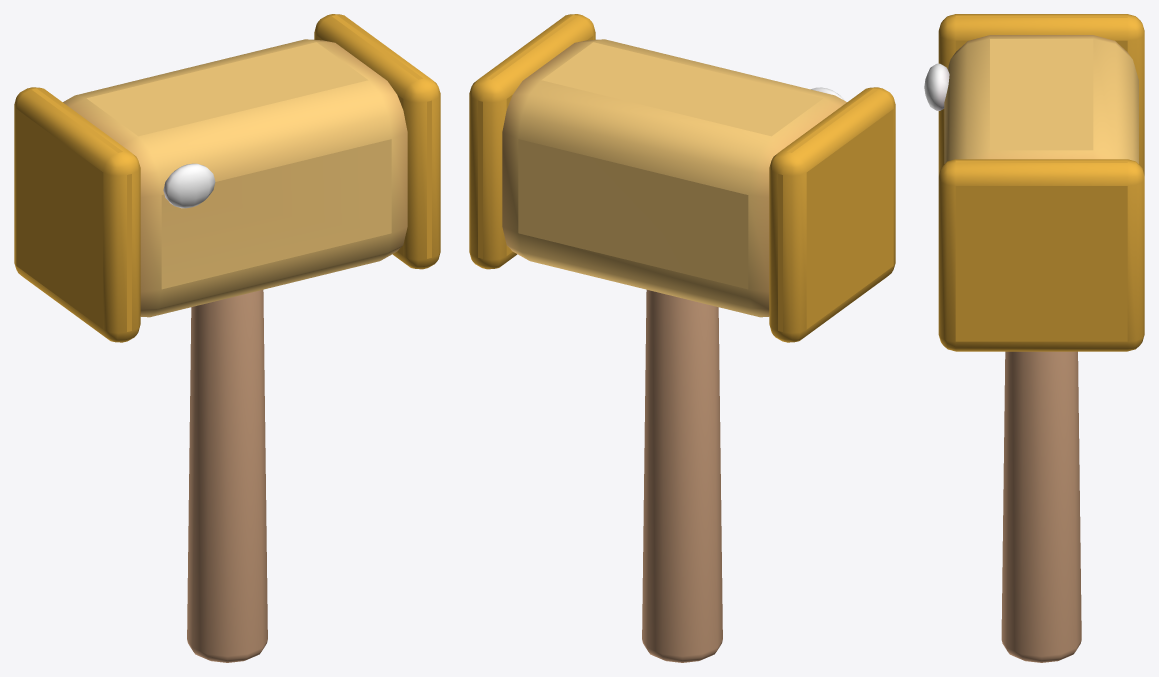
File: mallet.glb
3 renders of one model, left to right at view 1: azimuth 30°, elevation 25°; view 2: azimuth 150°, elevation 25°; view 3: azimuth 270°, elevation 25°, orthographic.
Visible parts, largest first — view 1: head, cf0b43a, handle, shine; view 2: head, cf0b43a, handle; view 3: cf0b43a, handle, head, shine.
Boxes of the visible parts, x1,y1,x2,y2 form: head: [63, 39, 407, 317]; cf0b43a: [14, 14, 440, 342]; handle: [187, 290, 267, 662]; shine: [163, 163, 215, 208]; head: [502, 39, 846, 317]; cf0b43a: [469, 14, 895, 342]; handle: [642, 290, 722, 662]; cf0b43a: [938, 14, 1144, 351]; handle: [1001, 351, 1081, 662]; head: [944, 35, 1138, 163]; shine: [924, 63, 949, 110].
Size of the model in its own units: 0.67 by 1.08 by 0.385.
